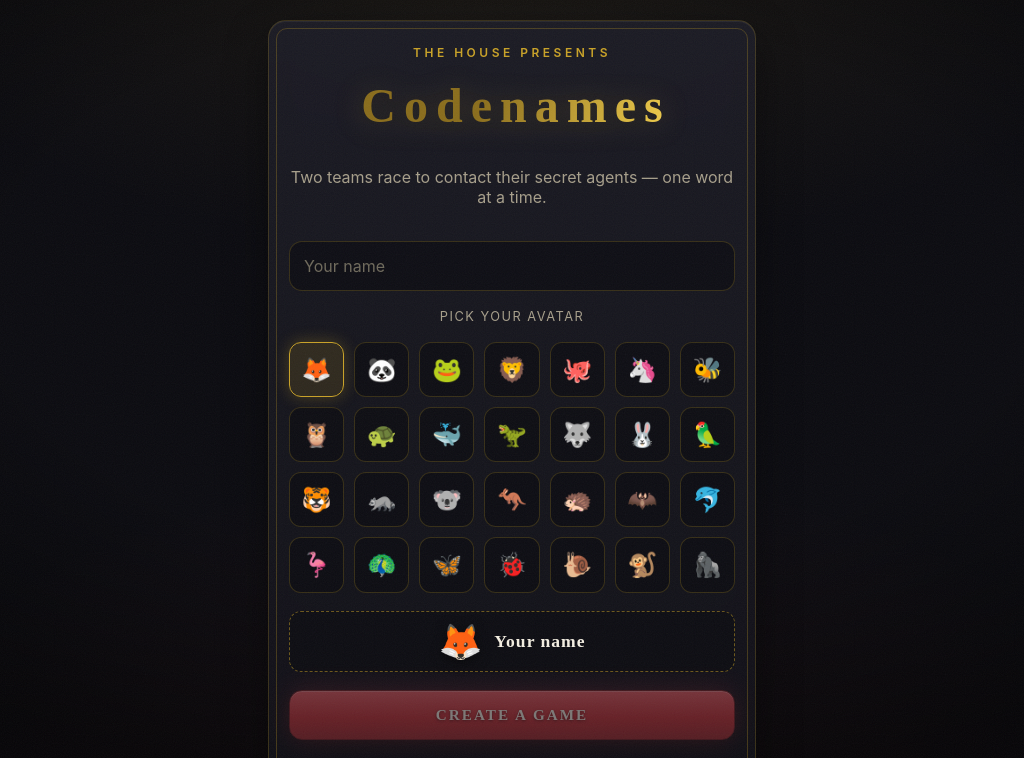
Test: Codenames Home › disables Create while a join code is entered
Type "Sam" into the field with placeholder "Your name" at coordinates (512, 266), box [289,241,735,291]
(page scrolled)
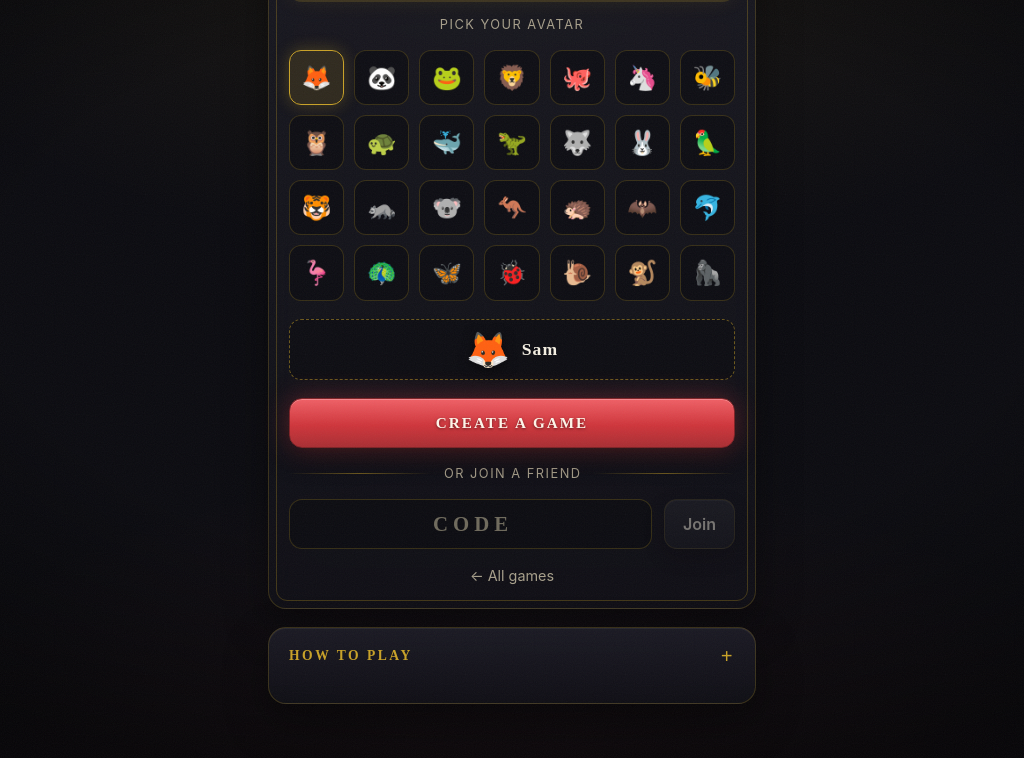
Expected: the button "Create a game" is enabled, [289,398,735,448]
Type "ABC123" into the field with placeholder "CODE" at coordinates (470, 524), box [289,499,652,549]
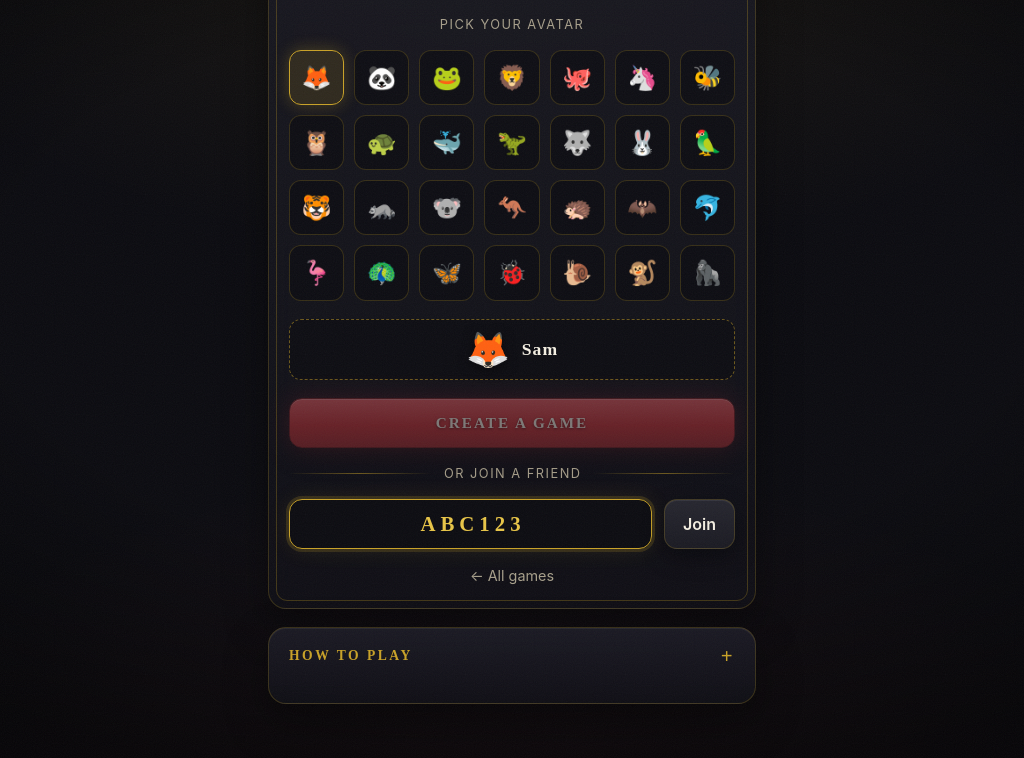
Expected: the button "Create a game" is disabled, [289,398,735,448]
